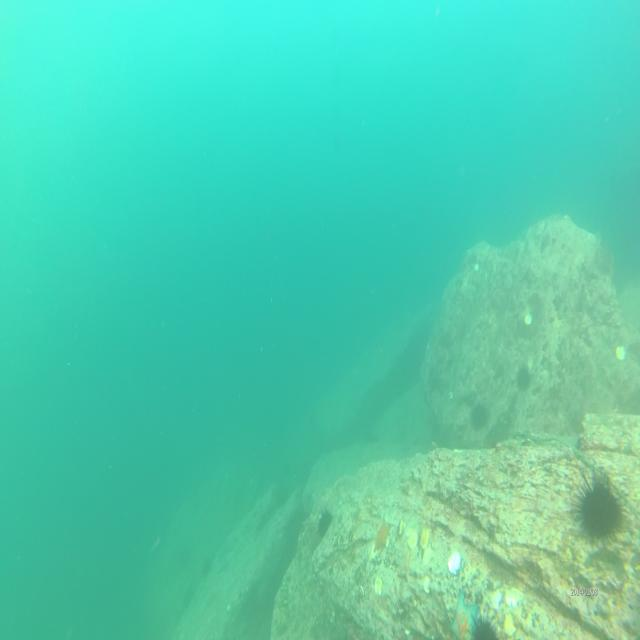echinus: (572, 468, 624, 550), (470, 400, 492, 432), (315, 508, 331, 538), (515, 362, 531, 391)
starfish: (447, 586, 477, 640)
